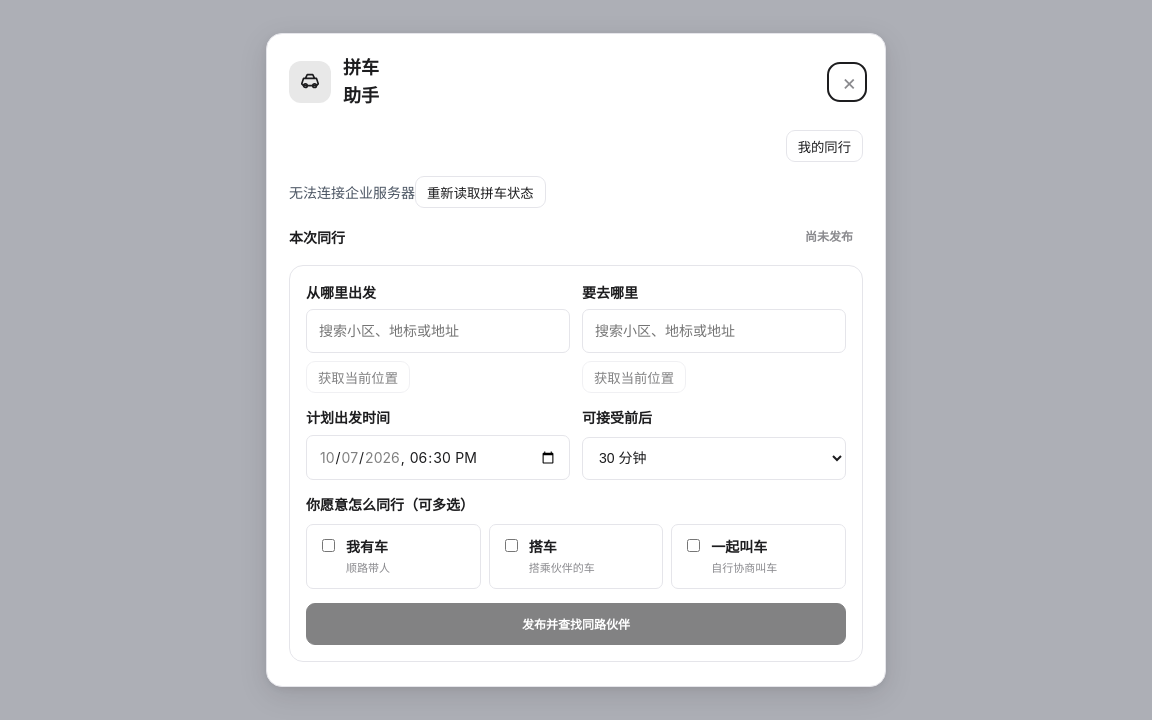
拼车助手界面 › does not report a missing map key when the initial state request fails, and can retry
Expected: the text "无法连接企业服务器" is shown, [289,184,415,201]
Click the button "重新读取拼车状态" at (480, 192), box [415,176,546,208]
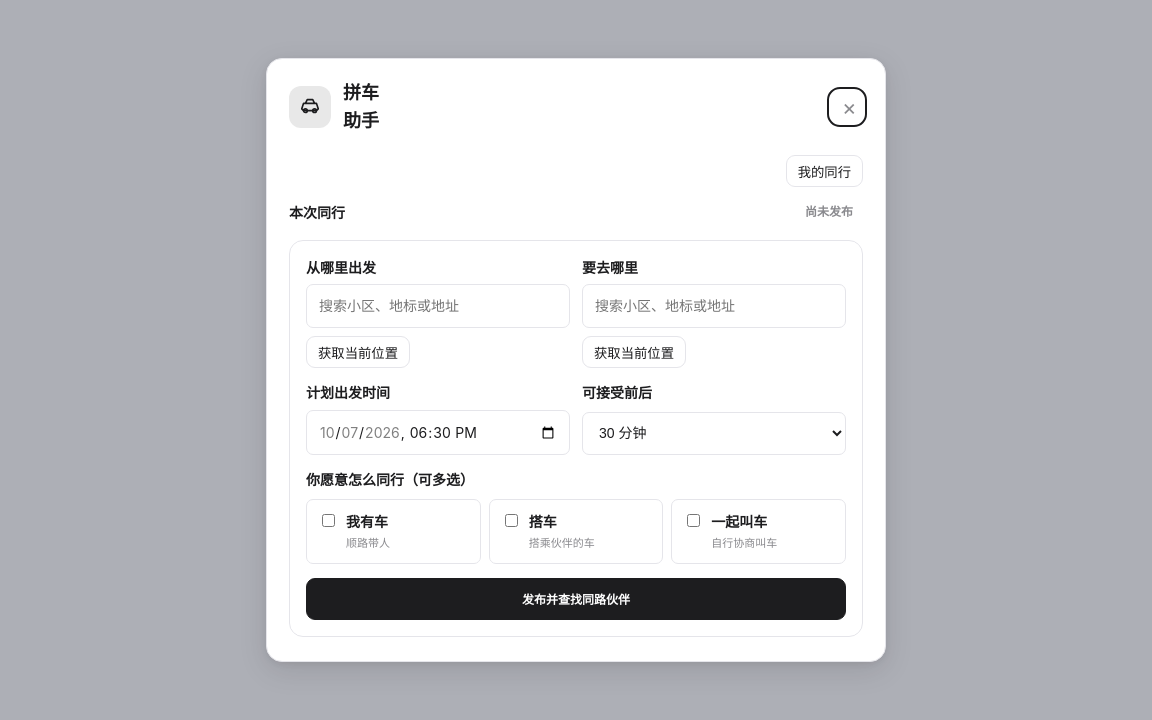
Expected: the button "发布并查找同路伙伴" is enabled, [306,578,846,620]
Expected: the text "无法连接企业服务器" is gone
